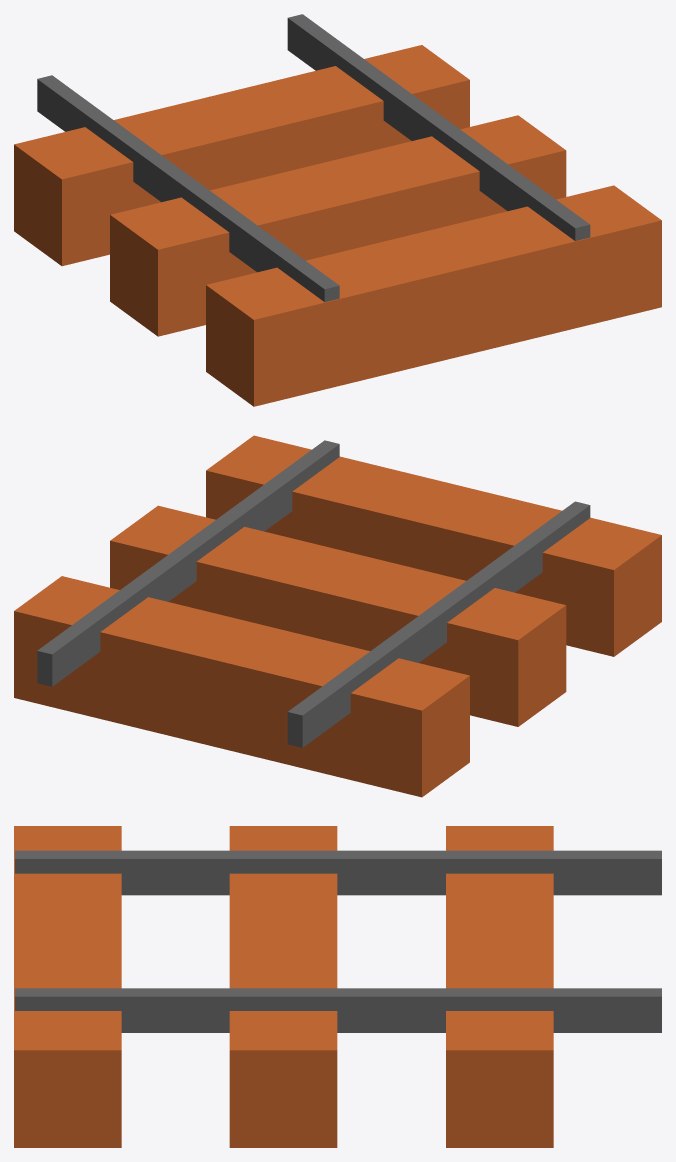
File: rail.fbx
3 views of the same model, one above another, from view 1: azimuth 30°, elevation 25°; view 2: azimuth 150°, elevation 25°; view 3: azimuth 270°, elevation 25° (orthographic). The views are drawn at different scales.
Parts seen in each view (by area): view 1: Cube; view 2: Cube; view 3: Cube.
Boxes of the visible parts, x1,y1,x2,y2 form: Cube: (14, 14, 661, 406); Cube: (14, 435, 661, 797); Cube: (14, 826, 661, 1147).
Size of the model in its own units: 492 by 115 by 601.
